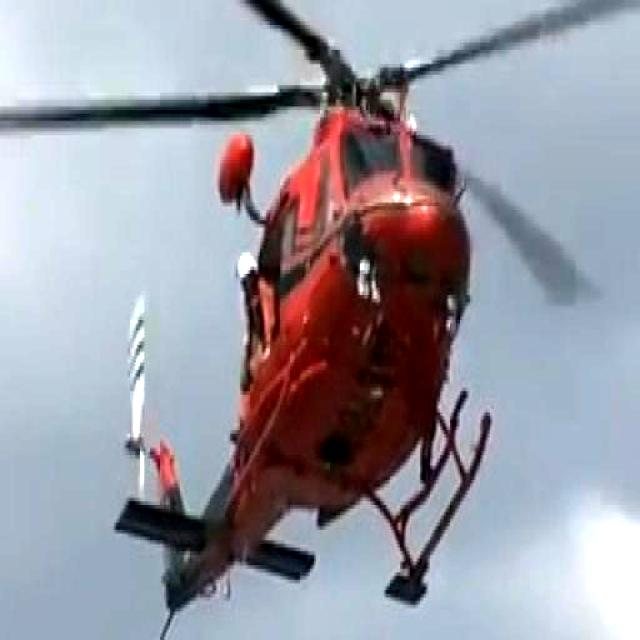drone: (78, 0, 538, 640)
